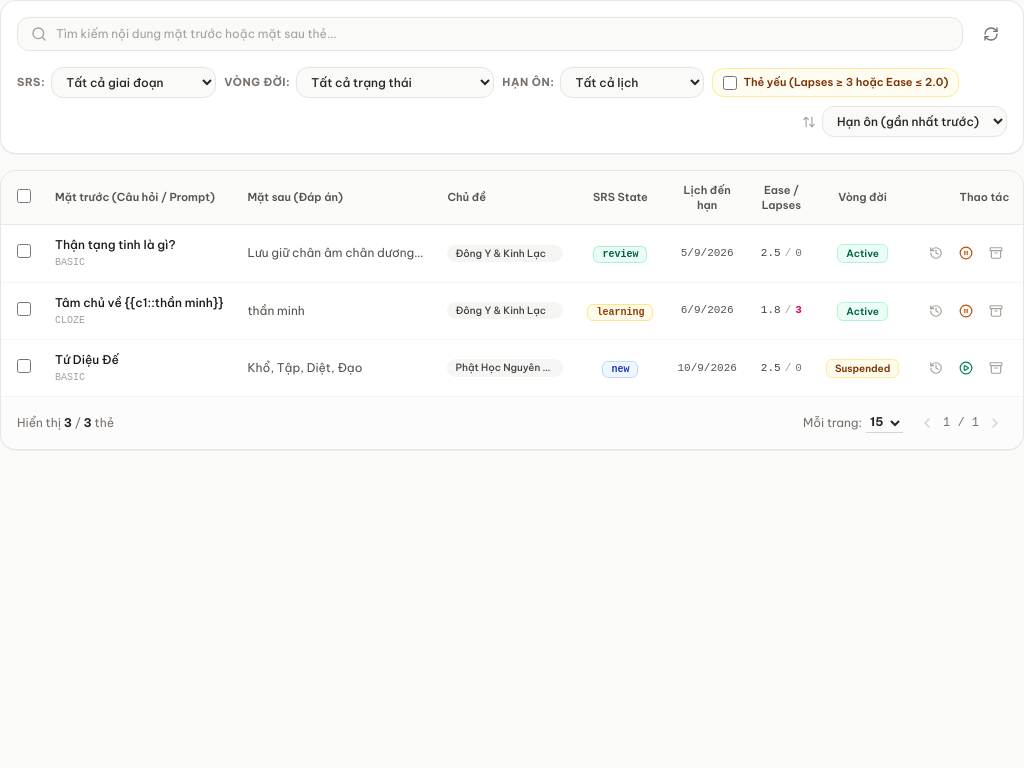
Test: Phase F6.5 — Card Browser Component (CardBrowser.tsx) › 6. bulk action opens confirmation modal before applying mutation
Note: Select card 1
Click the checkbox with test id "checkbox-select-card-c-1": point(24, 252) x1=17 y1=244 x2=31 y2=258
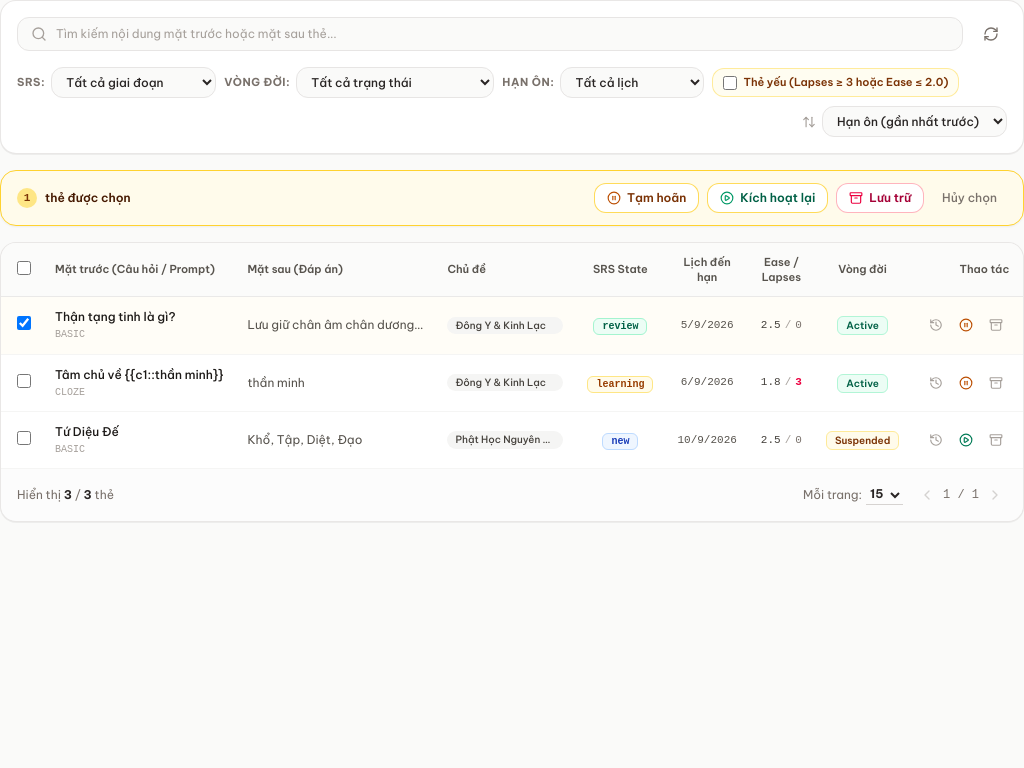
Note: Click Suspend in bulk bar
Click the button with test id "btn-bulk-suspend": point(647, 198) x1=594 y1=183 x2=699 y2=213
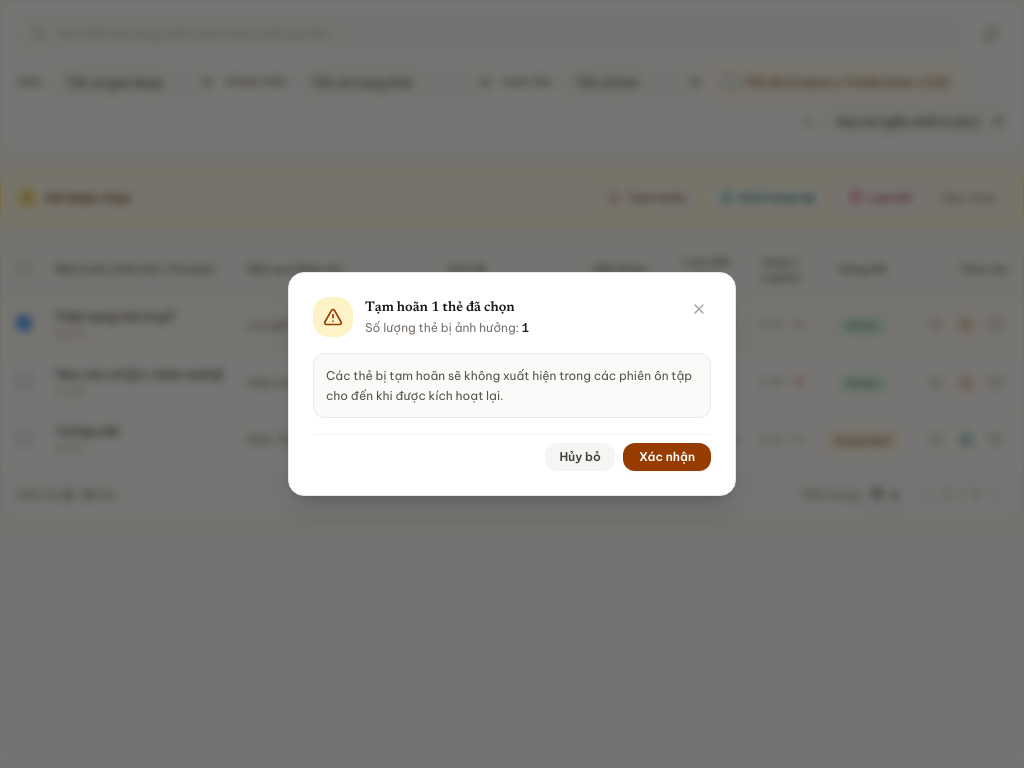
Now the element with test id "modal-card-confirm" is shown
Now the button with test id "btn-confirm-action" is shown, box x1=623 y1=443 x2=711 y2=471
Now the button with test id "btn-cancel-action" is shown, box x1=545 y1=443 x2=615 y2=471
